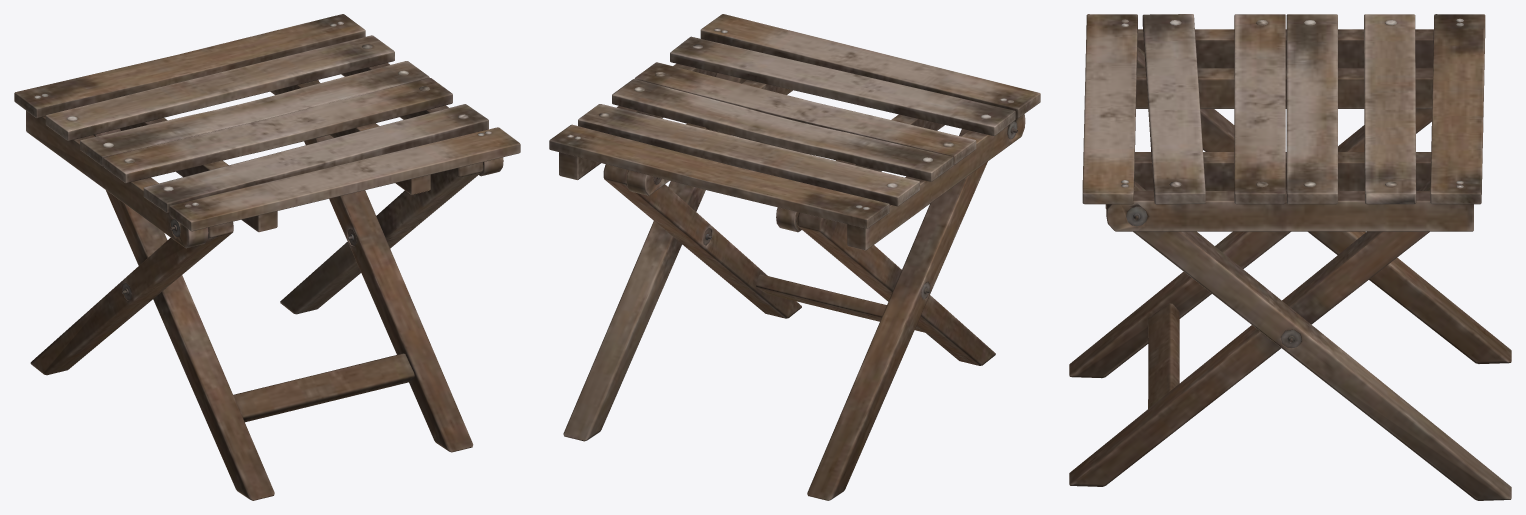
The model's file is folding_wooden_stool.glb.
3 renders of one model, left to right at view 1: azimuth 30°, elevation 25°; view 2: azimuth 150°, elevation 25°; view 3: azimuth 270°, elevation 25°, orthographic. The views are drawn at different scales.
Parts seen in each view (by area): view 1: folding_wooden_stool; view 2: folding_wooden_stool; view 3: folding_wooden_stool.
Part boxes in pixels (x1,y1,x2,y2): folding_wooden_stool: [14, 14, 520, 500]; folding_wooden_stool: [549, 14, 1040, 500]; folding_wooden_stool: [1069, 14, 1511, 500].
Bounding box in the file's own units: 0.5278 × 0.442 × 0.5471.
Materials: 1 (1 with a texture image).
